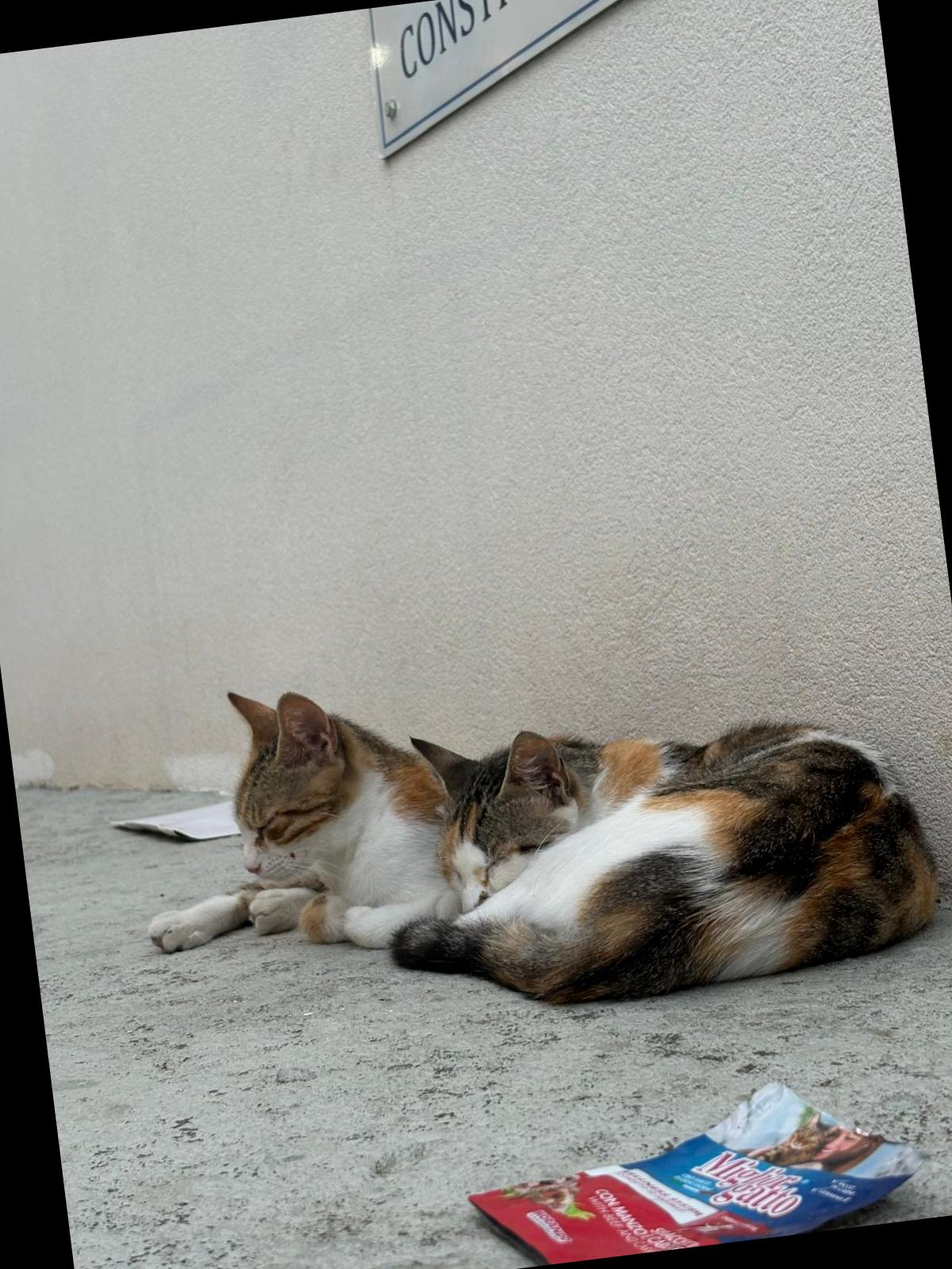macka: (370, 674, 952, 1025), (119, 665, 465, 975)
